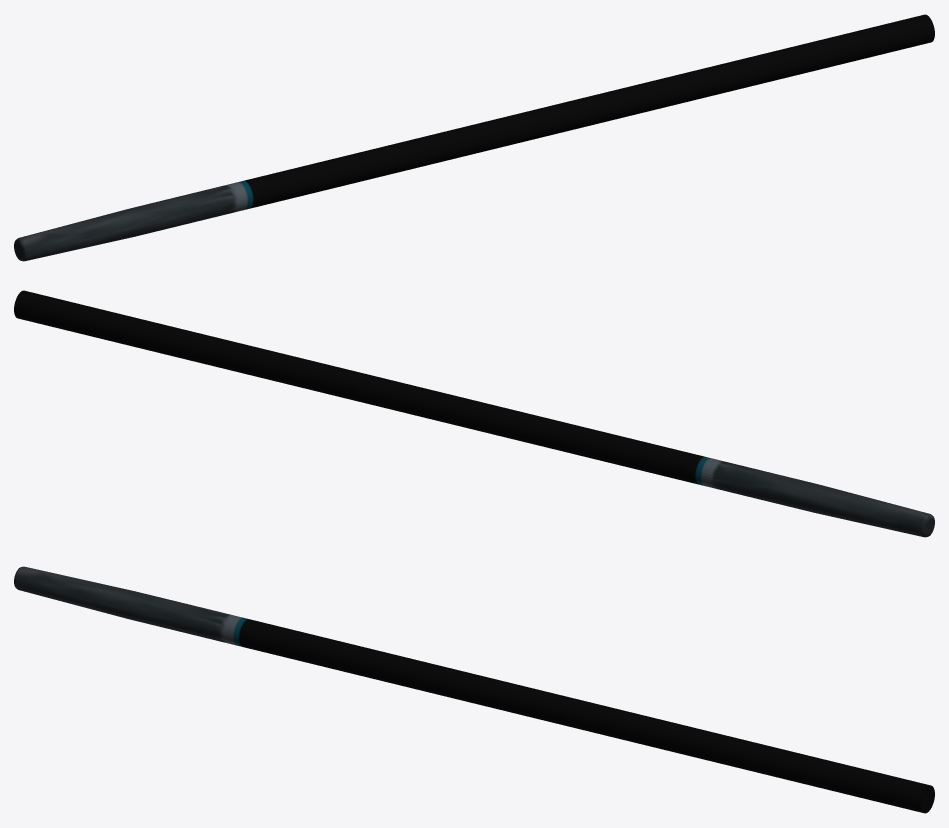
The model's file is halberd.fbx.
3 views of the same model, one above another, from view 1: azimuth 30°, elevation 25°; view 2: azimuth 150°, elevation 25°; view 3: azimuth 330°, elevation 25° (orthographic).
Visible parts, largest first — view 1: Cylinder; view 2: Cylinder; view 3: Cylinder.
Boxes of the visible parts, left/top/right/bottom form: Cylinder: left=14, top=14, right=934, bottom=261; Cylinder: left=14, top=290, right=934, bottom=537; Cylinder: left=14, top=566, right=934, bottom=813.
Size of the model in its own units: 12.79 by 0.3503 by 0.3503.
1 material, 1 textured.
